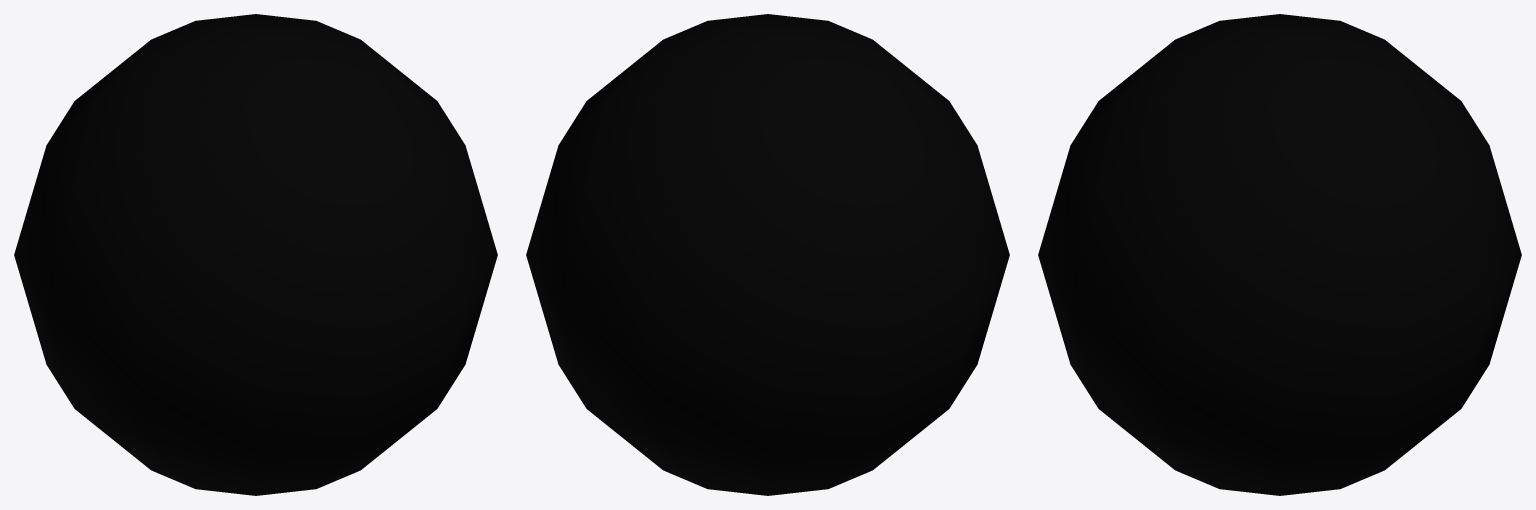
The model's file is MGS_Dio.FBX.
3 renders of one model, left to right at view 1: azimuth 30°, elevation 25°; view 2: azimuth 150°, elevation 25°; view 3: azimuth 270°, elevation 25°, orthographic.
Visible parts, largest first — view 1: main; view 2: main; view 3: main.
Part boxes in pixels (<box>): main: <box>14,14,497,495</box>; main: <box>526,14,1009,495</box>; main: <box>1038,14,1521,495</box>.
Bounding box in the file's own units: 4215 × 4215 × 4215.
